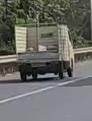Truck: (12, 18, 75, 82)
